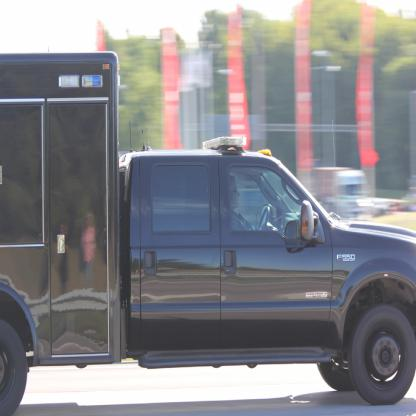Truck: (0, 46, 415, 415)
